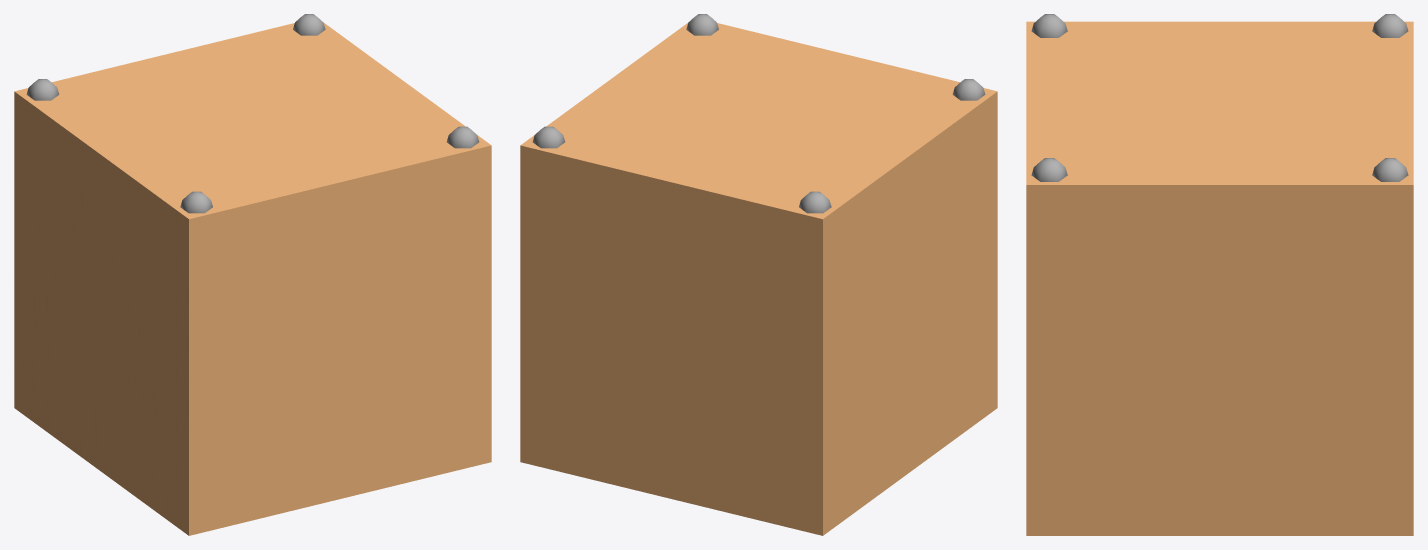
The model's file is rainbow_orange.fbx.
3 renders of one model, left to right at view 1: azimuth 30°, elevation 25°; view 2: azimuth 150°, elevation 25°; view 3: azimuth 270°, elevation 25°, orthographic. The views are drawn at different scales.
Visible parts, largest first — view 1: Mesh; view 2: Mesh; view 3: Mesh.
Part boxes in pixels (bbox=[...]): Mesh: bbox=[14, 14, 491, 535]; Mesh: bbox=[520, 14, 997, 535]; Mesh: bbox=[1026, 14, 1413, 535].
Bounding box in the file's own units: 1 × 1.05 × 1.
